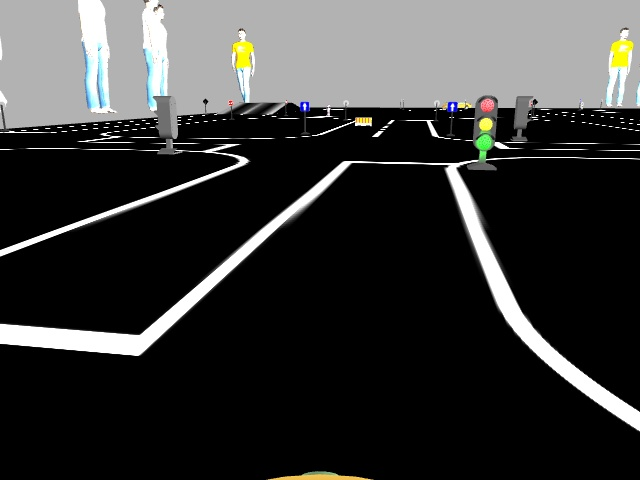ClosedRoadStand: (354, 116, 370, 125)
OneWay: (448, 101, 456, 112), (300, 101, 308, 110)
TrafficLight: (472, 94, 496, 150)
